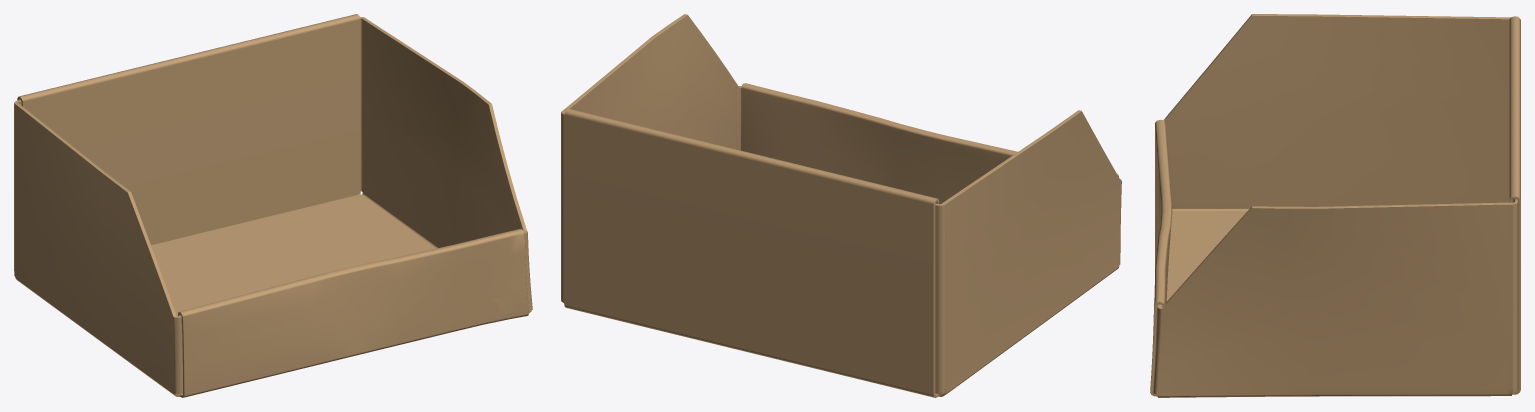
The model's file is box_cardboard_open_a01.glb.
3 renders of one model, left to right at view 1: azimuth 30°, elevation 25°; view 2: azimuth 150°, elevation 25°; view 3: azimuth 270°, elevation 25°, orthographic. The views are drawn at different scales.
Size of the model in its own units: 0.6358 by 0.3024 by 0.5118.
